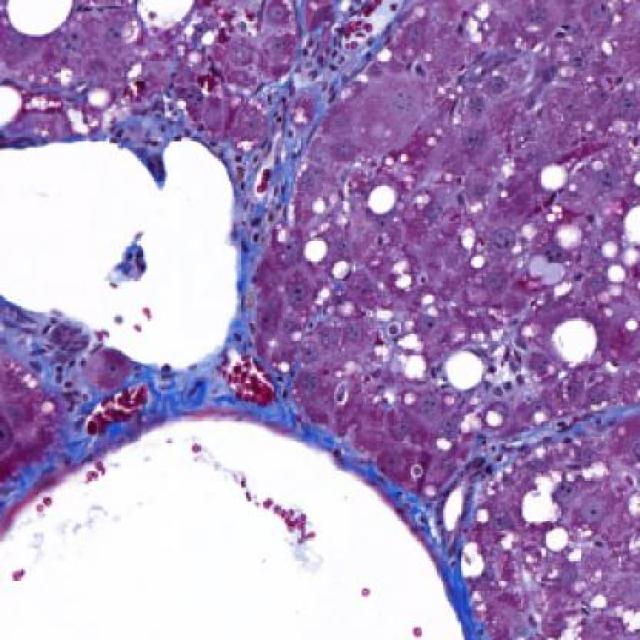fibrosis: (209, 123, 303, 412)
